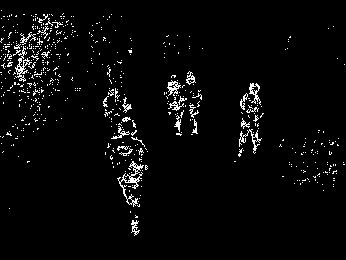person: (106, 117, 151, 234), (236, 80, 265, 157), (180, 69, 204, 137), (164, 72, 185, 136)
